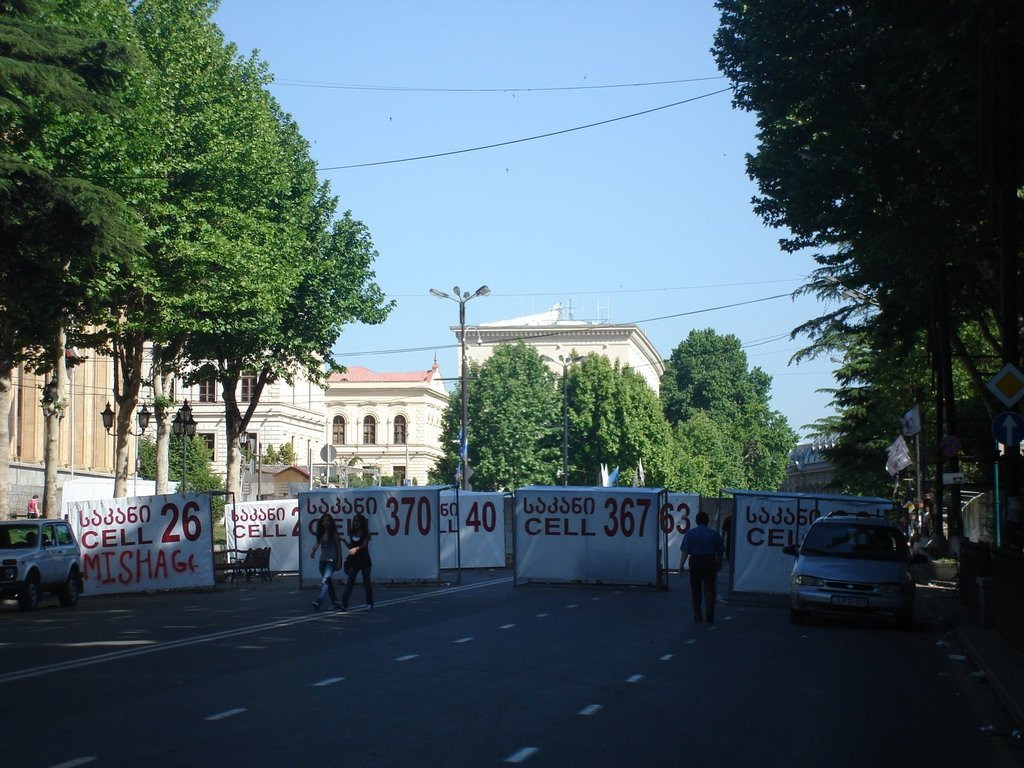Car: (780, 513, 928, 624), (0, 519, 81, 614)
